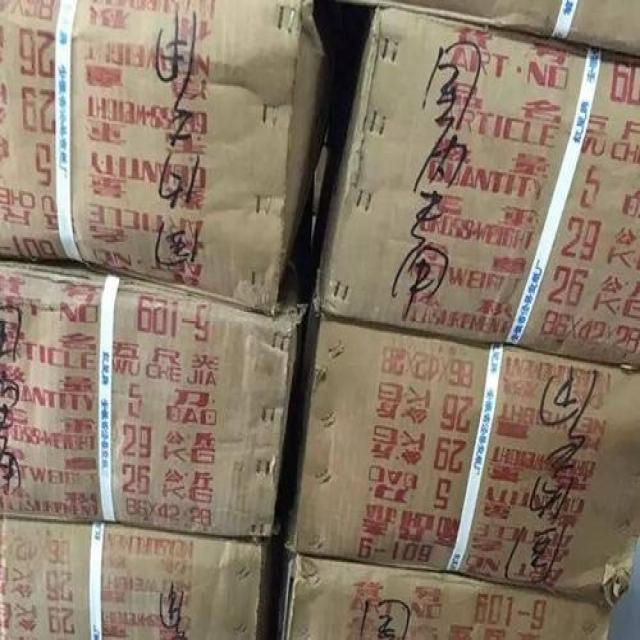box: (283, 283, 640, 610), (319, 6, 640, 366), (0, 180, 314, 543), (0, 519, 274, 640), (276, 548, 613, 640), (338, 0, 640, 57)
